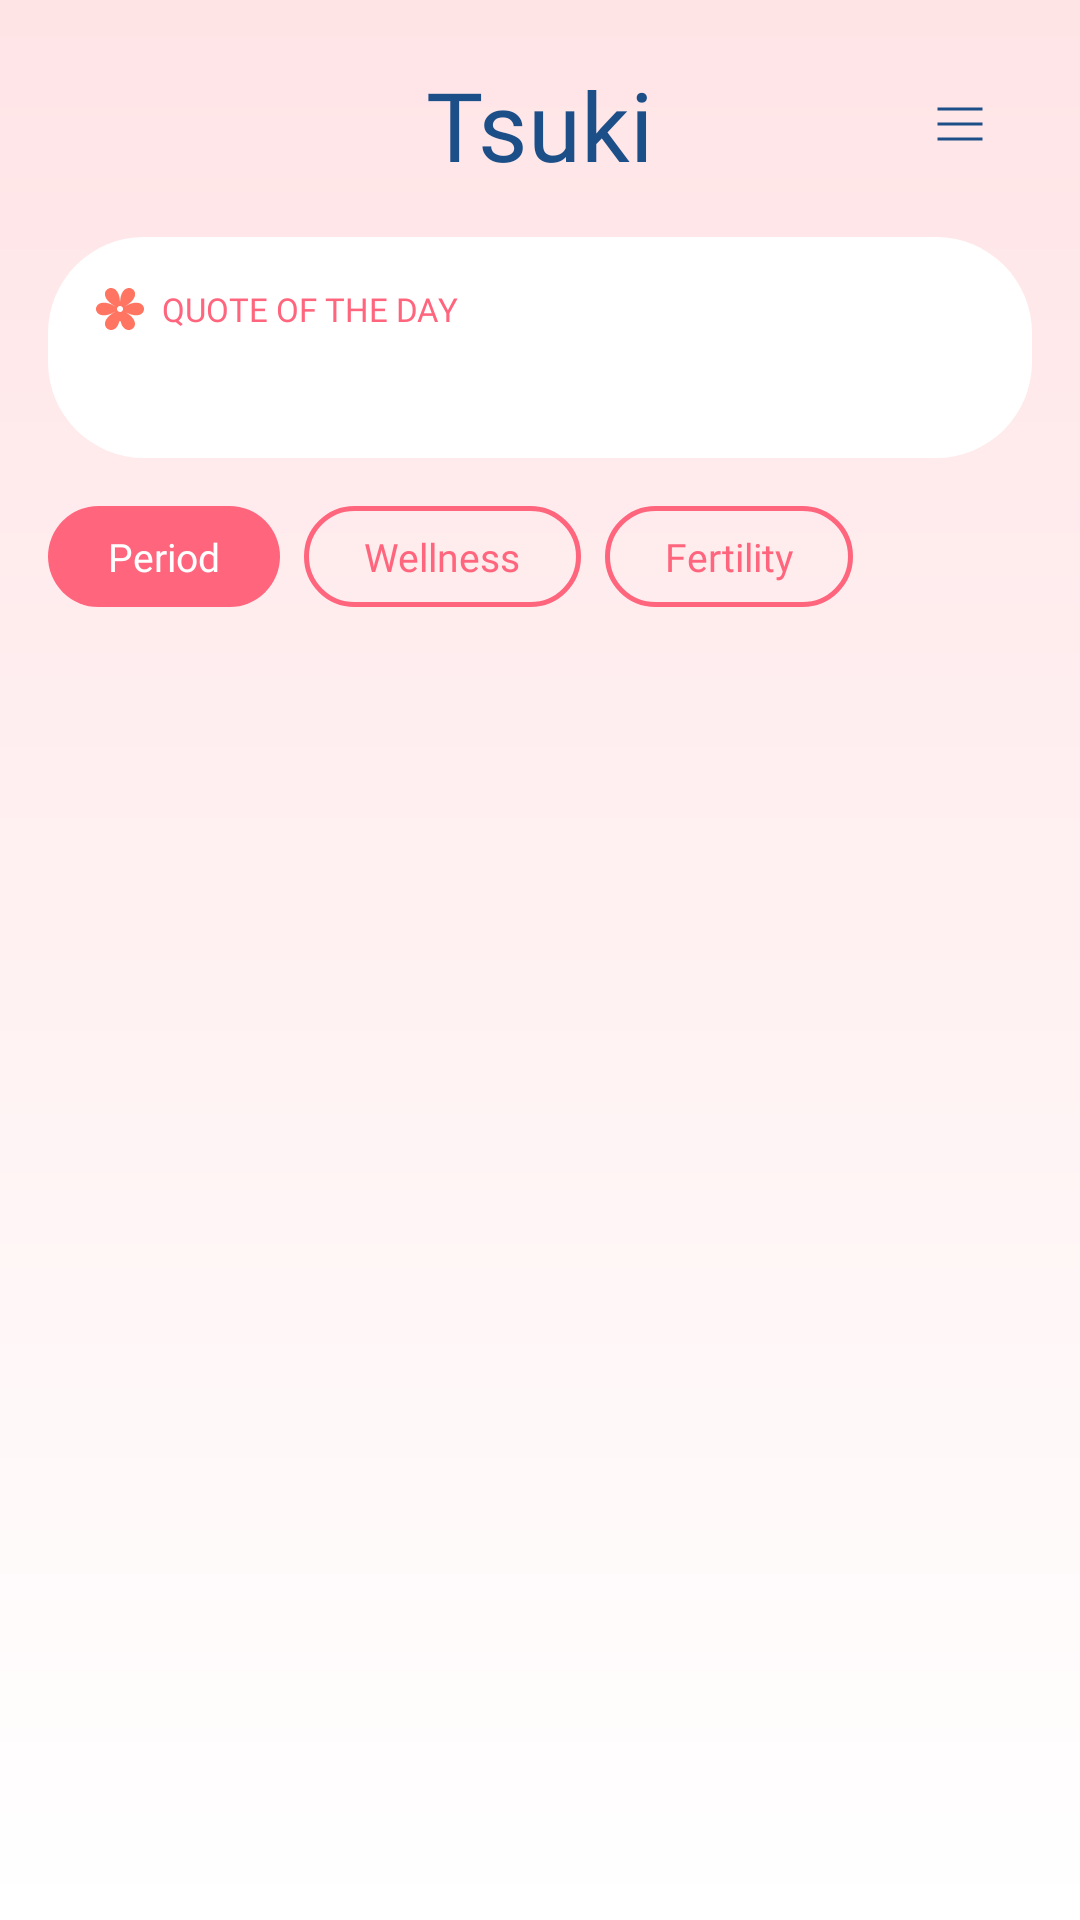

Point at icon controls on the screen. Image size 1080 x 1920, points as [x,y].
home flower: [120,309]
Menu: [960,124]
